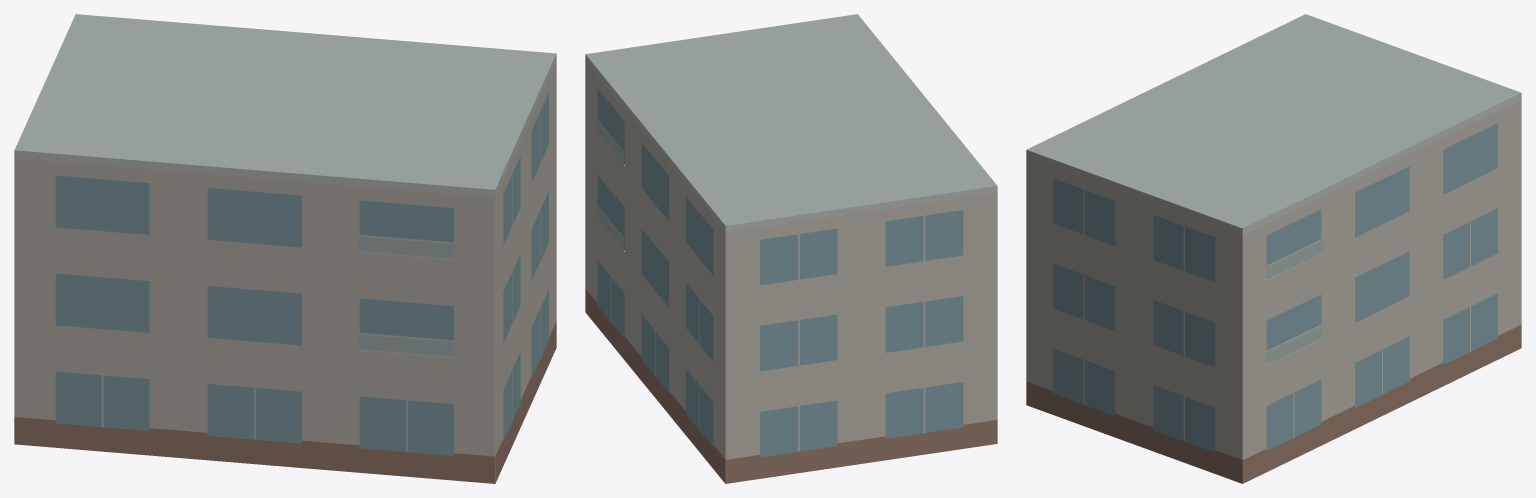
File: survey-upis-32892464.glb
3 renders of one model, left to right at view 1: azimuth 30°, elevation 25°; view 2: azimuth 150°, elevation 25°; view 3: azimuth 270°, elevation 25°, orthographic. The views are drawn at different scales.
Visible parts, largest first — view 1: survey-upis-32892464.tmp; view 2: survey-upis-32892464.tmp; view 3: survey-upis-32892464.tmp.
Part boxes in pixels (x1=…): survey-upis-32892464.tmp: x1=14, y1=14, x2=556, y2=483; survey-upis-32892464.tmp: x1=585, y1=14, x2=997, y2=483; survey-upis-32892464.tmp: x1=1026, y1=14, x2=1521, y2=483.
Size of the model in its own units: 16.4 by 9.1 by 16.
